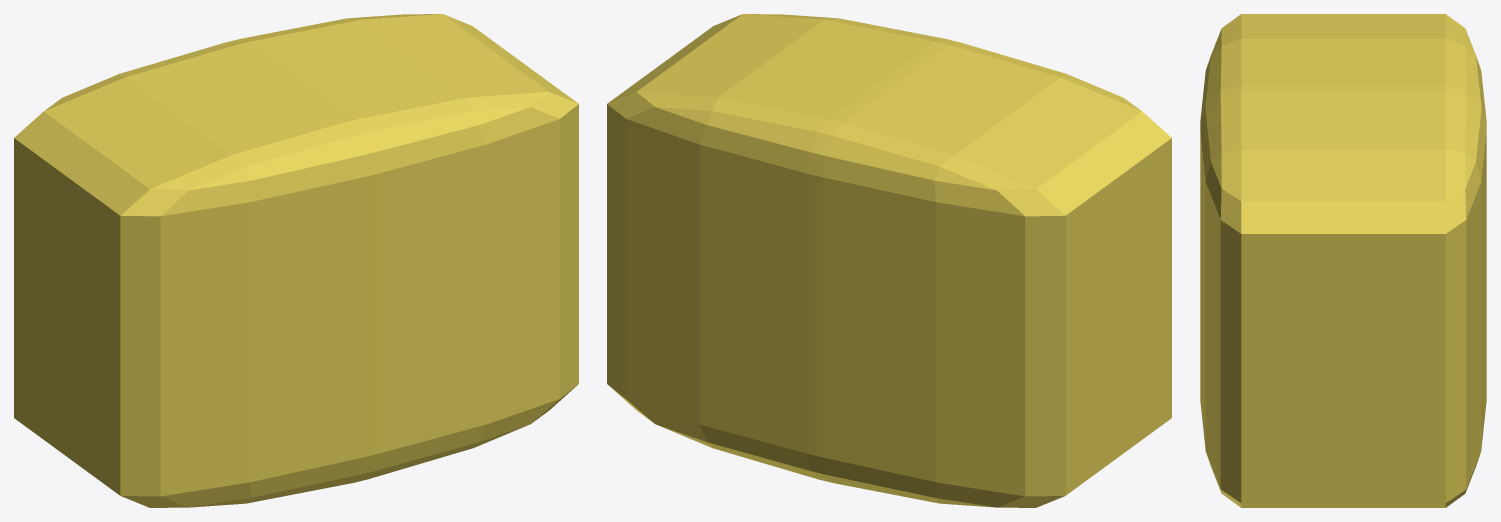
Rendered from Sword-pommel.glb.
3 renders of one model, left to right at view 1: azimuth 30°, elevation 25°; view 2: azimuth 150°, elevation 25°; view 3: azimuth 270°, elevation 25°, orthographic. The views are drawn at different scales.
Parts seen in each view (by area): view 1: Cube; view 2: Cube; view 3: Cube.
Boxes of the visible parts, x1,y1,x2,y2 form: Cube: (14, 14, 578, 507); Cube: (607, 14, 1171, 507); Cube: (1200, 14, 1486, 507).
Size of the model in its own units: 1.86 by 1.39 by 1.05.
